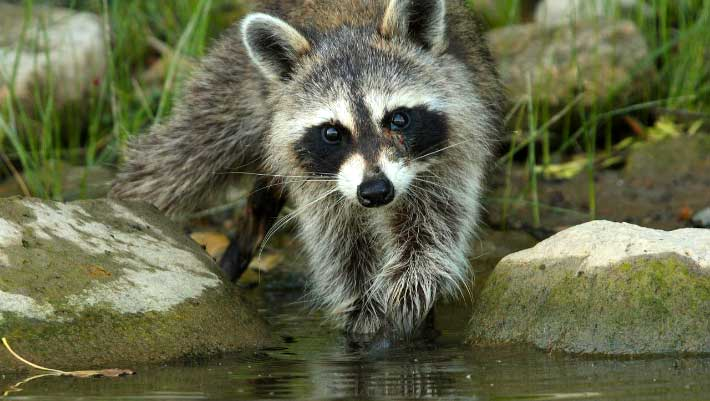raccoon: (139, 4, 515, 352)
